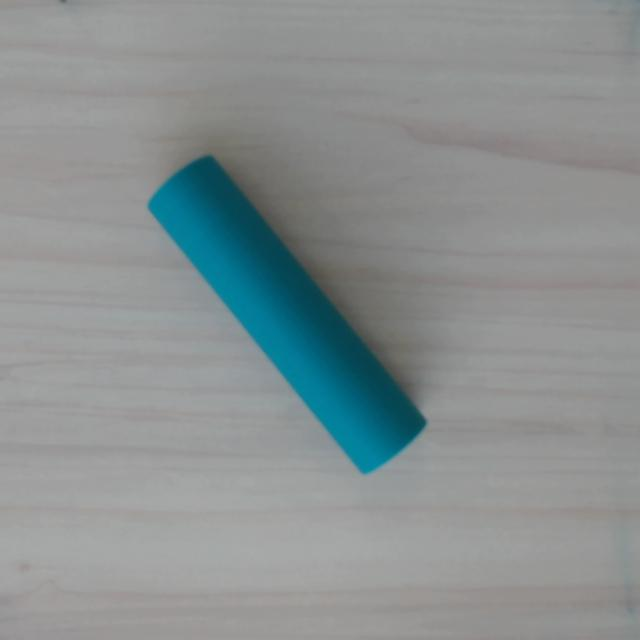Silinder-Hijau-10025: (141, 149, 431, 479)
